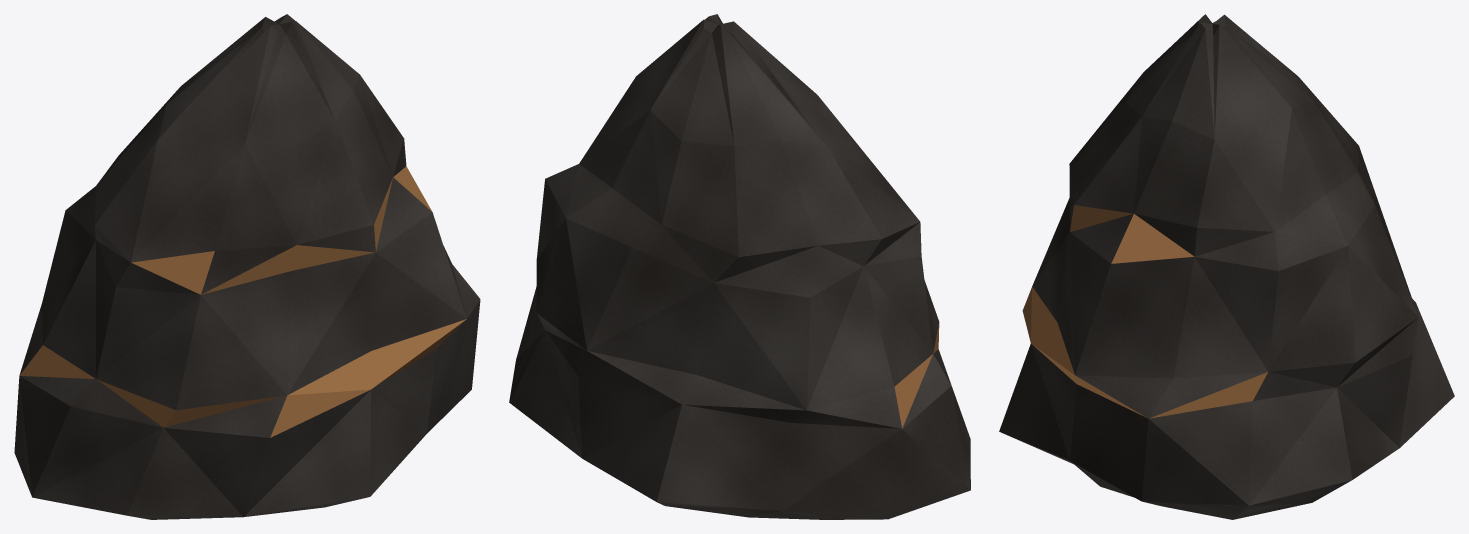
File: DenseMineral_Loose_A.glb
3 views of the same model, side by side, from view 1: azimuth 30°, elevation 25°; view 2: azimuth 150°, elevation 25°; view 3: azimuth 270°, elevation 25° (orthographic). The views are drawn at different scales.
Visible parts, largest first — view 1: DenseMineral_Loose_A_LOD0; view 2: DenseMineral_Loose_A_LOD0; view 3: DenseMineral_Loose_A_LOD0.
Part boxes in pixels (box(x1,y1,x2,y2)): DenseMineral_Loose_A_LOD0: box(14, 14, 480, 519); DenseMineral_Loose_A_LOD0: box(509, 14, 970, 519); DenseMineral_Loose_A_LOD0: box(999, 14, 1454, 519).
Size of what is drawn, in the model's own units: 1.75 by 1.7 by 1.51.
Materials: 2 (1 with a texture image).
